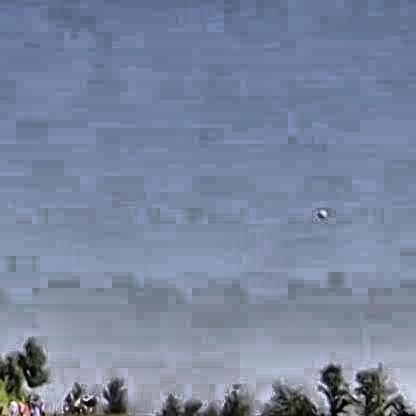golfball: (314, 207, 324, 218)
